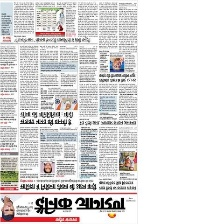news_paper: (0, 1, 139, 223)
